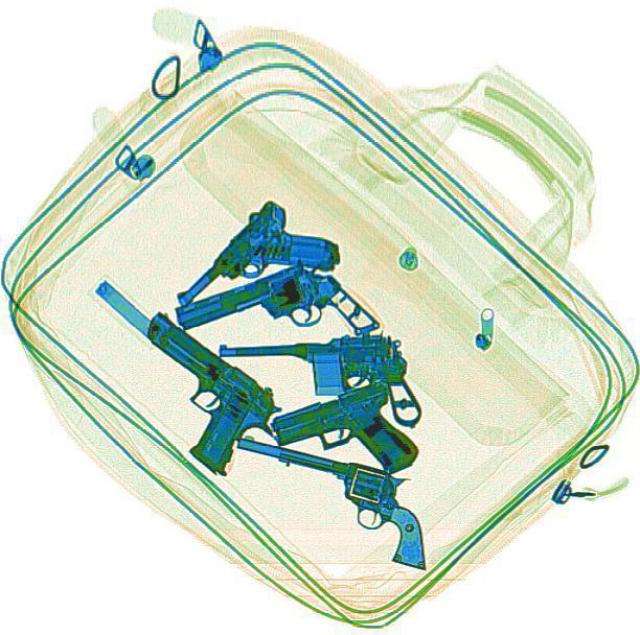Gun: (43, 267, 294, 480), (212, 432, 450, 571), (170, 243, 382, 388), (167, 191, 347, 356), (218, 332, 420, 432), (264, 376, 420, 499)
